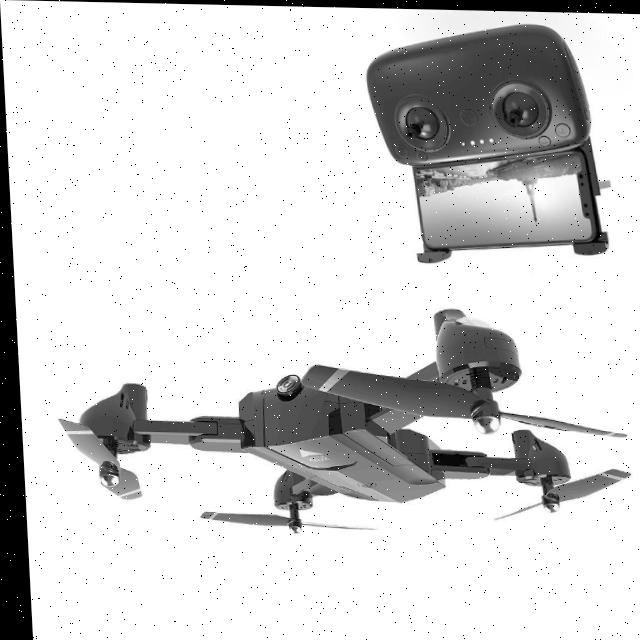drone: (12, 286, 640, 638)
